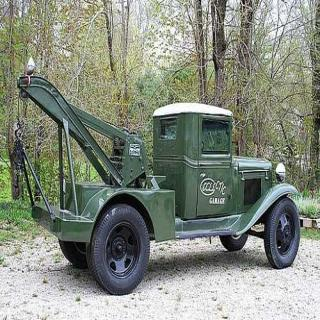Towing_truck: (13, 65, 301, 296)
